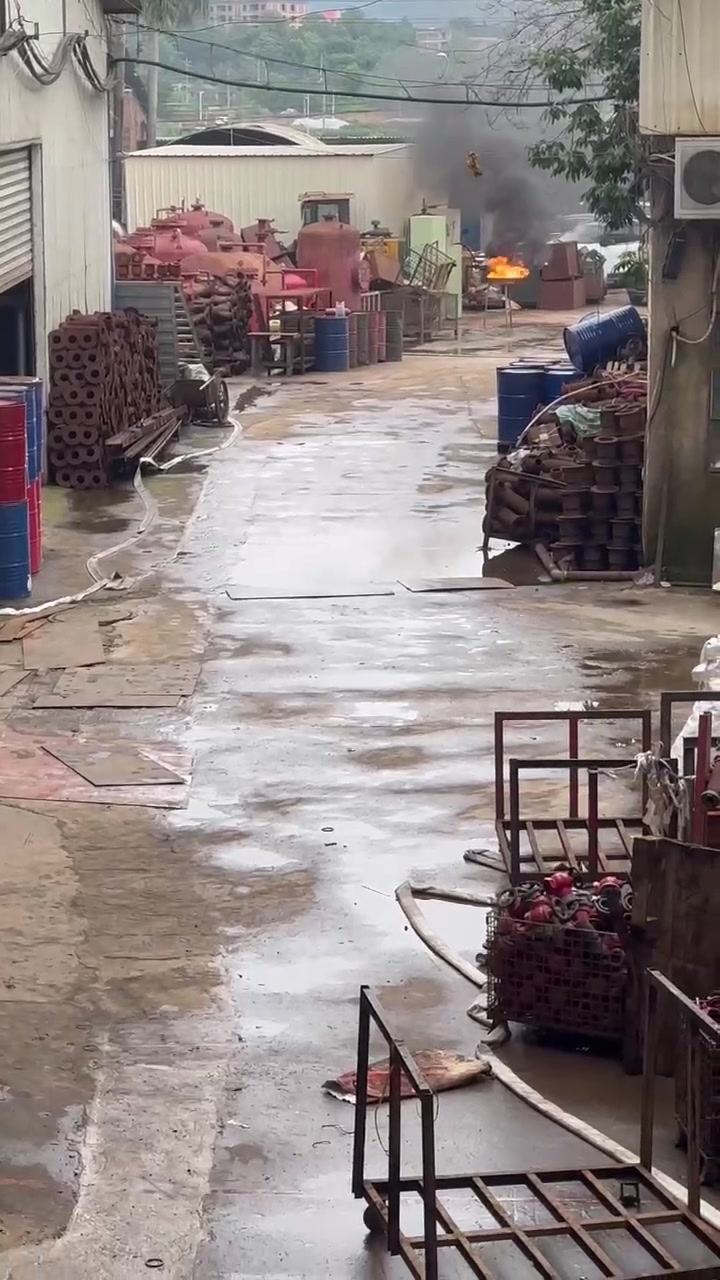fire: (486, 255, 528, 278)
